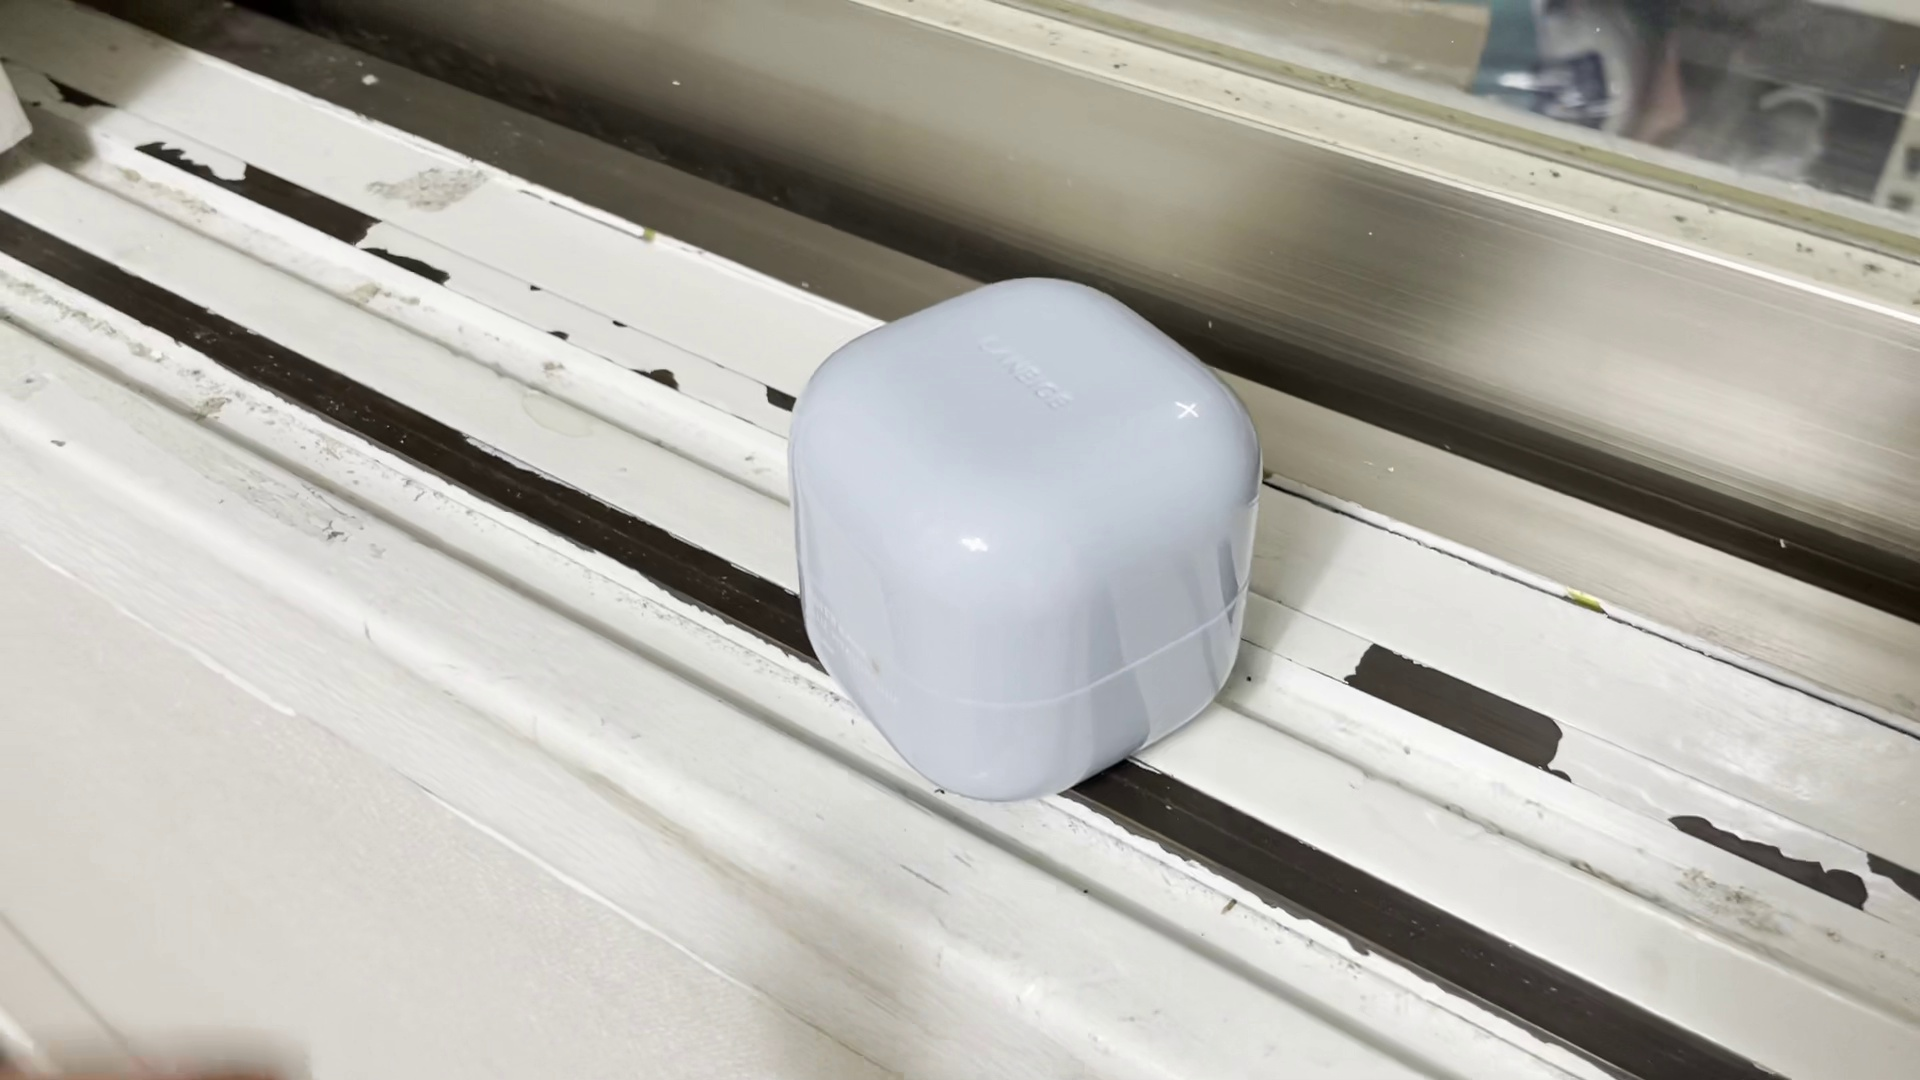cream: (791, 274, 1267, 794)
